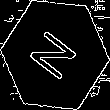N_SE: (25, 24, 85, 86)
